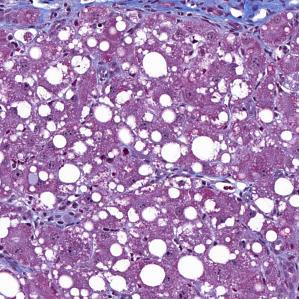fibrosis: (145, 0, 286, 32), (34, 0, 102, 23)
